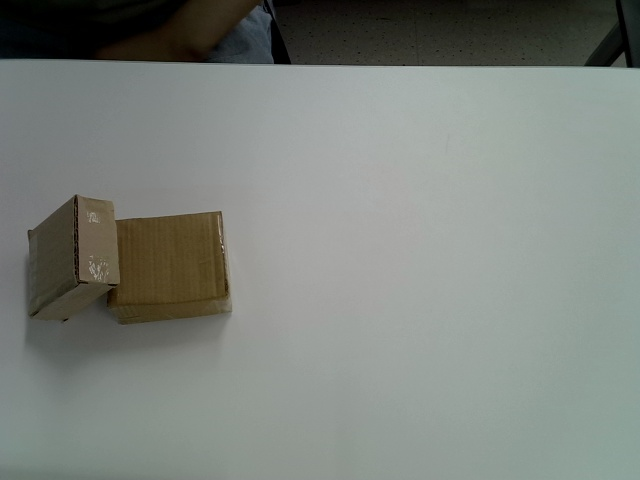normal: (107, 211, 228, 326), (28, 196, 119, 322)
